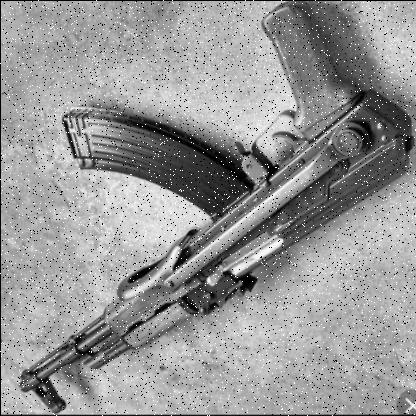rifle: (16, 1, 416, 414)
